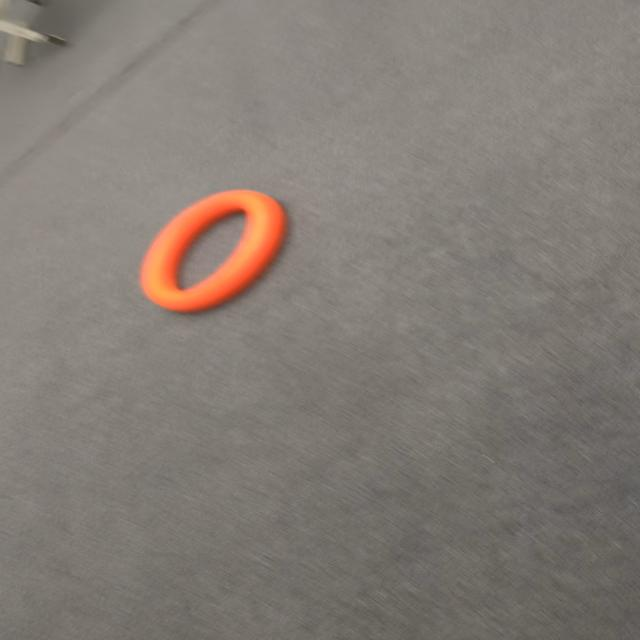note: (140, 188, 290, 310)
